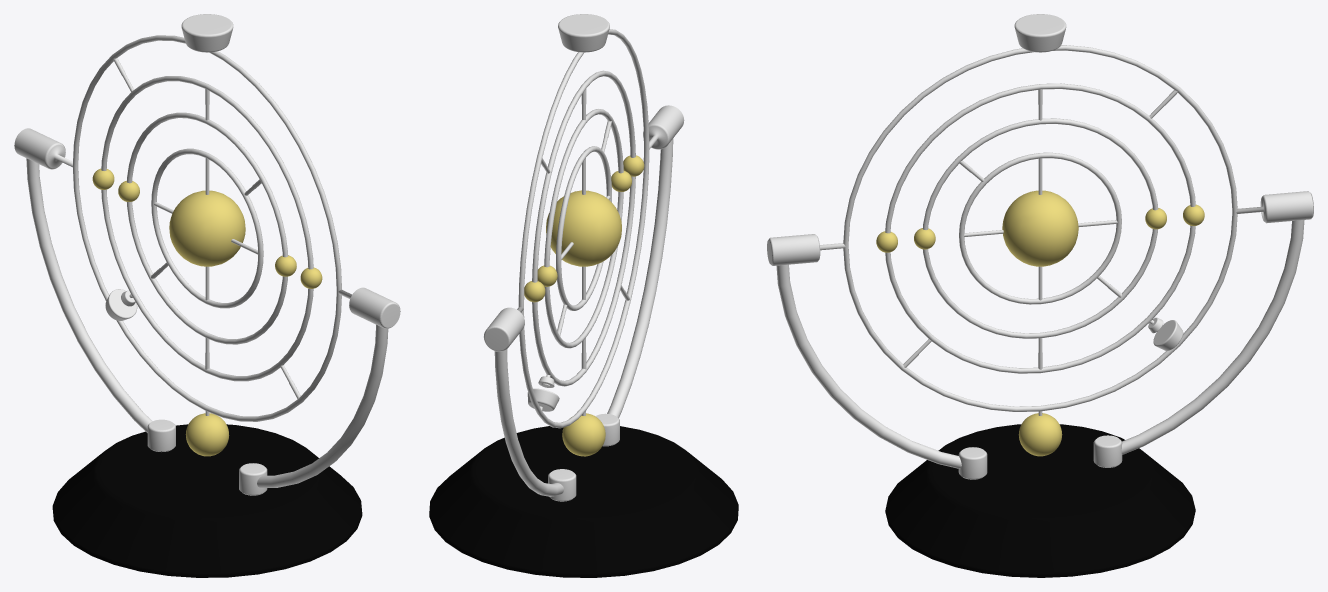
The model's file is Solar Pendalum.fbx.
The picture shows the model from 3 angles, left to right: view 1: azimuth 30°, elevation 25°; view 2: azimuth 150°, elevation 25°; view 3: azimuth 270°, elevation 25°; orthographic projection.
Visible parts, largest first — view 1: Solar pendalum; view 2: Solar pendalum; view 3: Solar pendalum.
Part boxes in pixels (box(x1,y1,x2,y2)): Solar pendalum: box(14, 14, 400, 577); Solar pendalum: box(429, 14, 738, 577); Solar pendalum: box(767, 14, 1313, 577).
Size of the model in its own units: 51.78 by 90 by 91.32.
